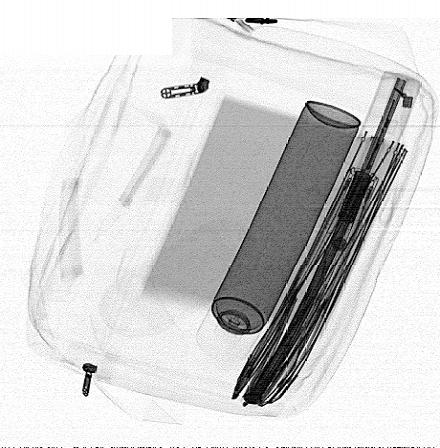Sprayer: (196, 100, 362, 370)
